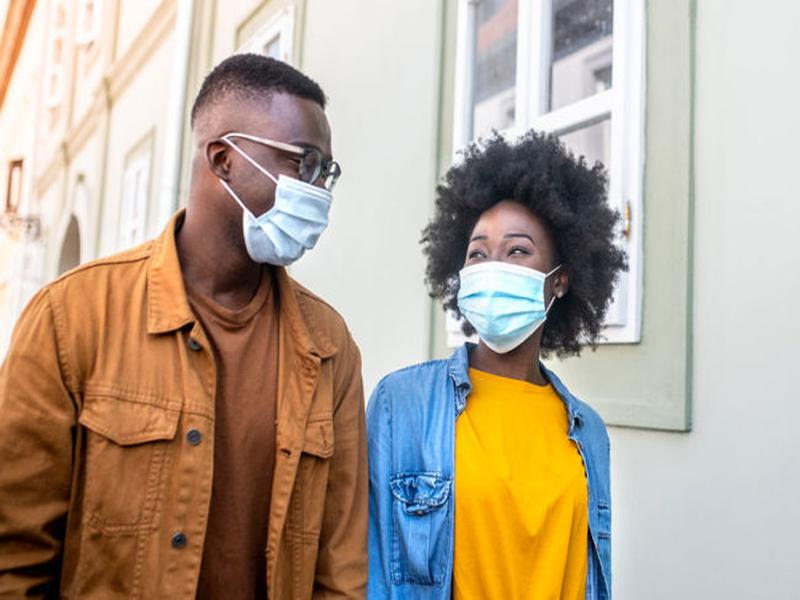mask: (240, 168, 335, 266), (453, 266, 549, 354)
